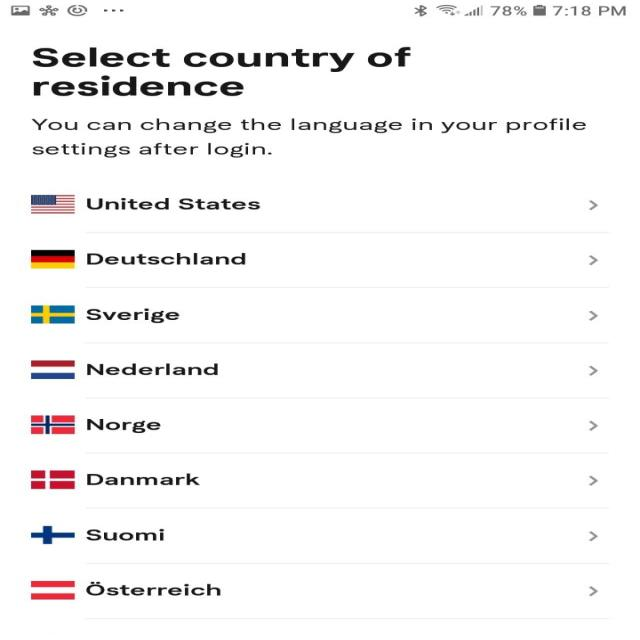Icon: (586, 586, 598, 596), (588, 199, 598, 210), (588, 365, 598, 376), (588, 475, 598, 486), (588, 255, 598, 265), (588, 310, 598, 320), (588, 420, 598, 430), (588, 530, 598, 540)
Image: (30, 470, 76, 489), (30, 580, 76, 599), (30, 194, 75, 213), (30, 250, 75, 269), (31, 305, 76, 324), (30, 360, 75, 379), (31, 415, 76, 434), (30, 526, 76, 544)
Text: (30, 118, 586, 158), (32, 46, 411, 96), (87, 197, 260, 210), (84, 581, 220, 596), (87, 252, 246, 264), (86, 362, 218, 375), (86, 308, 180, 323), (86, 473, 200, 485), (86, 418, 161, 433), (86, 528, 164, 541)
